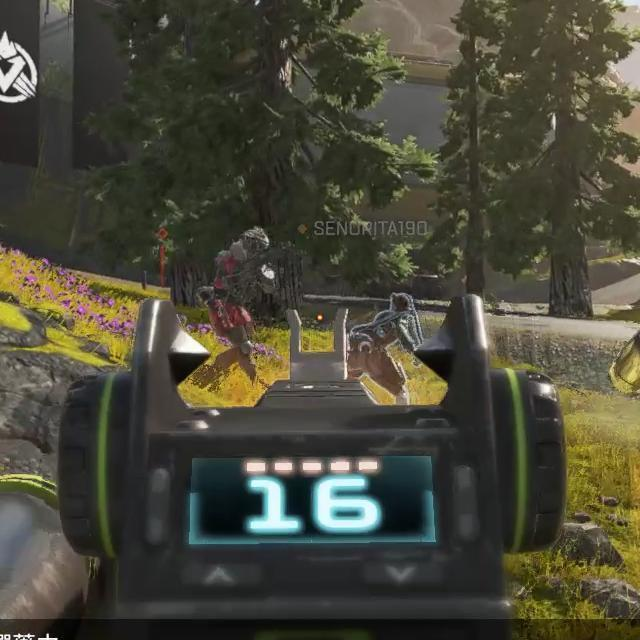avatar: (203, 224, 278, 385), (348, 291, 426, 407)
